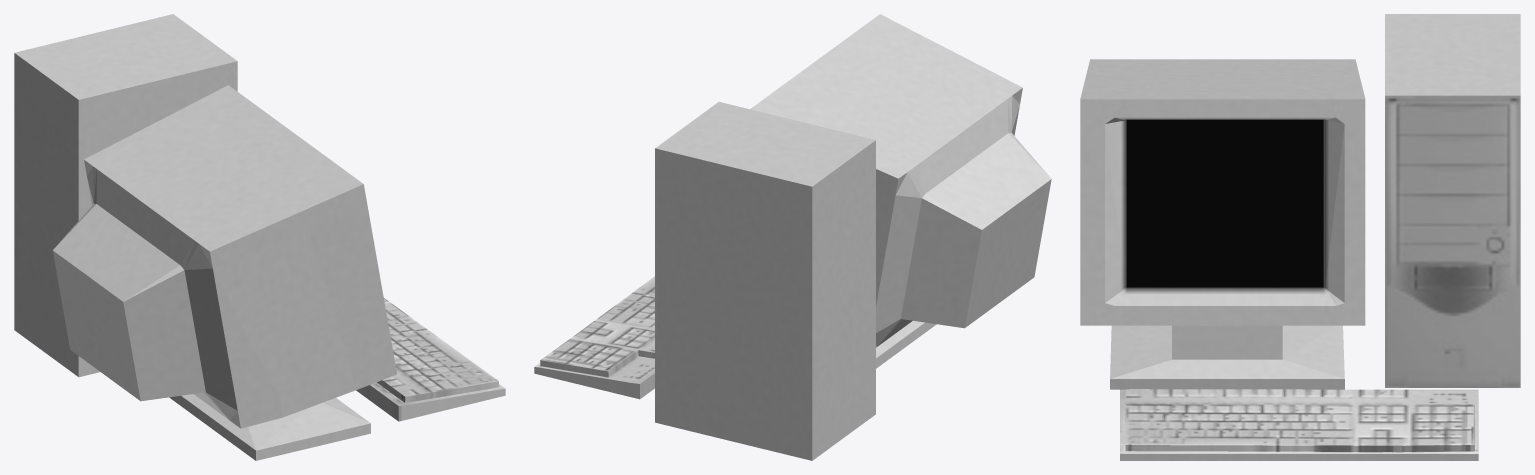
The model's file is computer.fbx.
The picture shows the model from 3 angles, left to right: view 1: azimuth 30°, elevation 25°; view 2: azimuth 150°, elevation 25°; view 3: azimuth 270°, elevation 25°; orthographic projection. The views are drawn at different scales.
Visible parts, largest first — view 1: pCube4; view 2: pCube4; view 3: pCube4.
Boxes of the visible parts, x1,y1,x2,y2 form: pCube4: (14, 14, 505, 460); pCube4: (534, 14, 1051, 460); pCube4: (1080, 14, 1520, 460).
Size of the model in its own units: 85.68 by 61.82 by 84.35.
